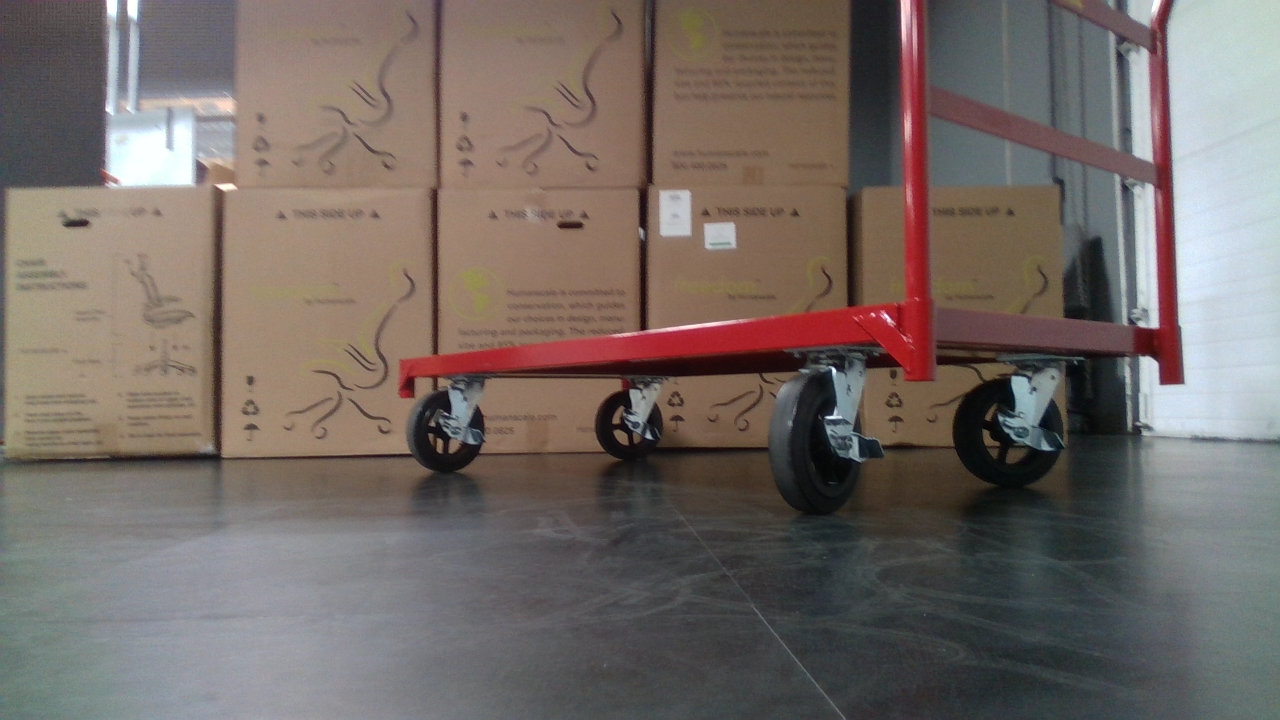Dolly: (396, 0, 1186, 519)
Wheel: (766, 377, 861, 514), (952, 377, 1066, 487), (407, 386, 486, 473), (593, 390, 664, 461)
